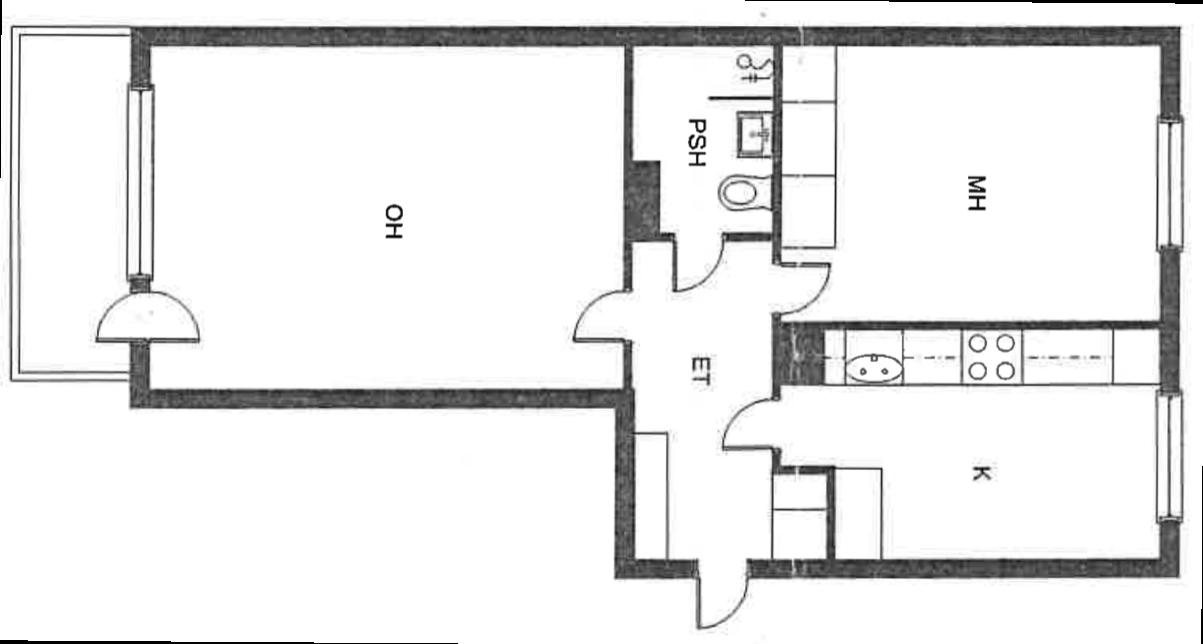bathroom: (636, 47, 774, 233)
door: (693, 561, 756, 633), (139, 286, 206, 348), (717, 394, 785, 455), (568, 285, 633, 348), (770, 259, 833, 319), (91, 287, 152, 347), (670, 231, 728, 294)
perimeter: (129, 24, 1182, 581)
window: (121, 73, 157, 287), (1152, 383, 1192, 532), (1152, 105, 1189, 260)
